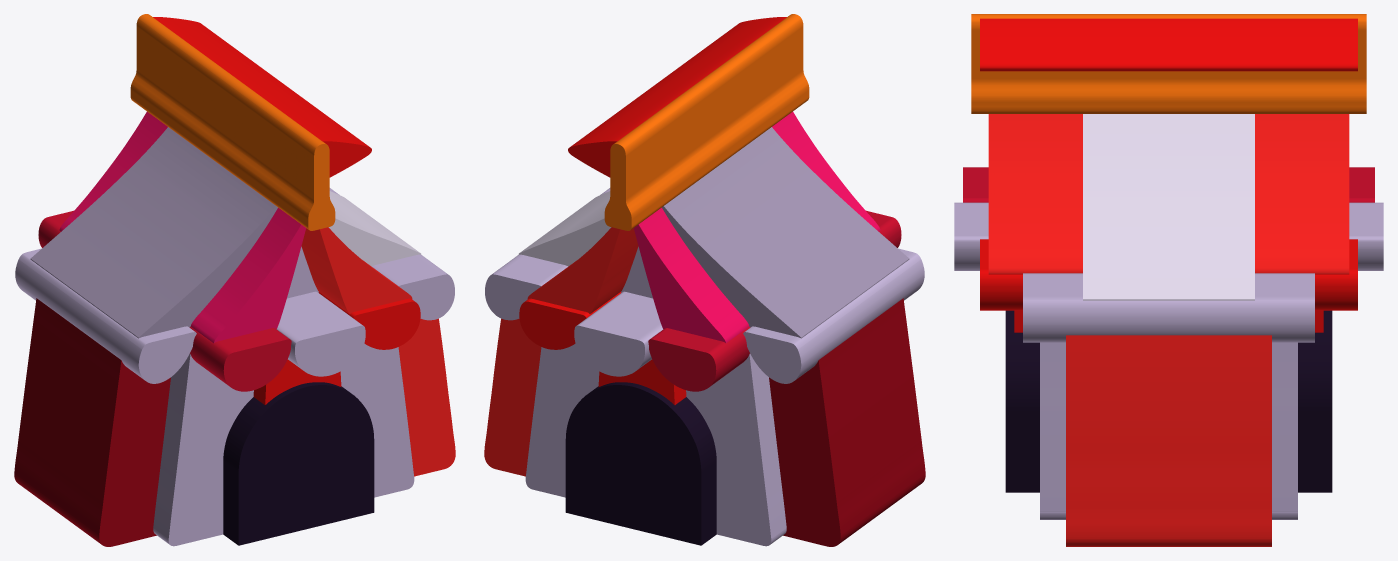
3 views of the same model, side by side, from view 1: azimuth 30°, elevation 25°; view 2: azimuth 150°, elevation 25°; view 3: azimuth 270°, elevation 25° (orthographic). The views are drawn at different scales.
Parts seen in each view (by area): view 1: U+1F3AA_layer04_obj00, U+1F3AA_layer01_obj00, U+1F3AA_layer09_obj00, U+1F3AA_layer13_obj00, U+1F3AA_layer05_obj00, U+1F3AA_layer10_obj00, U+1F3AA_layer12_obj00, U+1F3AA_layer06_obj00, U+1F3AA_layer02_obj00, U+1F3AA_layer15_obj00, U+1F3AA_layer14_obj00, U+1F3AA_layer11_obj00 (+4 smaller); view 2: U+1F3AA_layer04_obj00, U+1F3AA_layer01_obj00, U+1F3AA_layer09_obj00, U+1F3AA_layer13_obj00, U+1F3AA_layer05_obj00, U+1F3AA_layer10_obj00, U+1F3AA_layer12_obj00, U+1F3AA_layer06_obj00, U+1F3AA_layer02_obj00, U+1F3AA_layer15_obj00, U+1F3AA_layer14_obj00, U+1F3AA_layer11_obj00 (+4 smaller); view 3: U+1F3AA_layer02_obj00, U+1F3AA_layer00_obj00, U+1F3AA_layer11_obj00, U+1F3AA_layer12_obj00, U+1F3AA_layer13_obj00, U+1F3AA_layer07_obj00, U+1F3AA_layer09_obj00, U+1F3AA_layer05_obj00, U+1F3AA_layer15_obj00, U+1F3AA_layer14_obj00.
Boxes of the visible parts, <box> form: U+1F3AA_layer04_obj00: <box>30,127,277,338</box>; U+1F3AA_layer01_obj00: <box>14,298,170,546</box>; U+1F3AA_layer09_obj00: <box>223,382,374,545</box>; U+1F3AA_layer13_obj00: <box>130,14,335,230</box>; U+1F3AA_layer05_obj00: <box>153,343,414,546</box>; U+1F3AA_layer10_obj00: <box>59,111,306,343</box>; U+1F3AA_layer12_obj00: <box>153,17,420,349</box>; U+1F3AA_layer06_obj00: <box>15,248,196,383</box>; U+1F3AA_layer02_obj00: <box>398,318,455,476</box>; U+1F3AA_layer15_obj00: <box>276,291,365,376</box>; U+1F3AA_layer14_obj00: <box>38,210,291,391</box>; U+1F3AA_layer11_obj00: <box>301,227,412,313</box>; U+1F3AA_layer04_obj00: <box>662,127,909,338</box>; U+1F3AA_layer01_obj00: <box>769,298,925,546</box>; U+1F3AA_layer09_obj00: <box>565,382,716,545</box>; U+1F3AA_layer13_obj00: <box>604,14,809,230</box>; U+1F3AA_layer05_obj00: <box>525,343,786,546</box>; U+1F3AA_layer10_obj00: <box>633,111,880,343</box>; U+1F3AA_layer12_obj00: <box>519,17,786,349</box>; U+1F3AA_layer06_obj00: <box>743,248,924,383</box>; U+1F3AA_layer02_obj00: <box>484,318,541,476</box>; U+1F3AA_layer15_obj00: <box>574,291,663,376</box>; U+1F3AA_layer14_obj00: <box>648,210,901,391</box>; U+1F3AA_layer11_obj00: <box>527,227,638,313</box>; U+1F3AA_layer02_obj00: <box>1066,335,1271,546</box>; U+1F3AA_layer00_obj00: <box>1083,114,1254,300</box>; U+1F3AA_layer11_obj00: <box>988,114,1349,274</box>; U+1F3AA_layer12_obj00: <box>980,18,1357,310</box>; U+1F3AA_layer13_obj00: <box>971,14,1366,113</box>; U+1F3AA_layer07_obj00: <box>1023,273,1314,342</box>; U+1F3AA_layer09_obj00: <box>1005,310,1332,492</box>; U+1F3AA_layer05_obj00: <box>1040,342,1297,519</box>; U+1F3AA_layer15_obj00: <box>954,202,1383,270</box>; U+1F3AA_layer14_obj00: <box>963,167,1374,202</box>.
Size of the model in its own units: 0.5272 by 0.5666 by 0.5.
